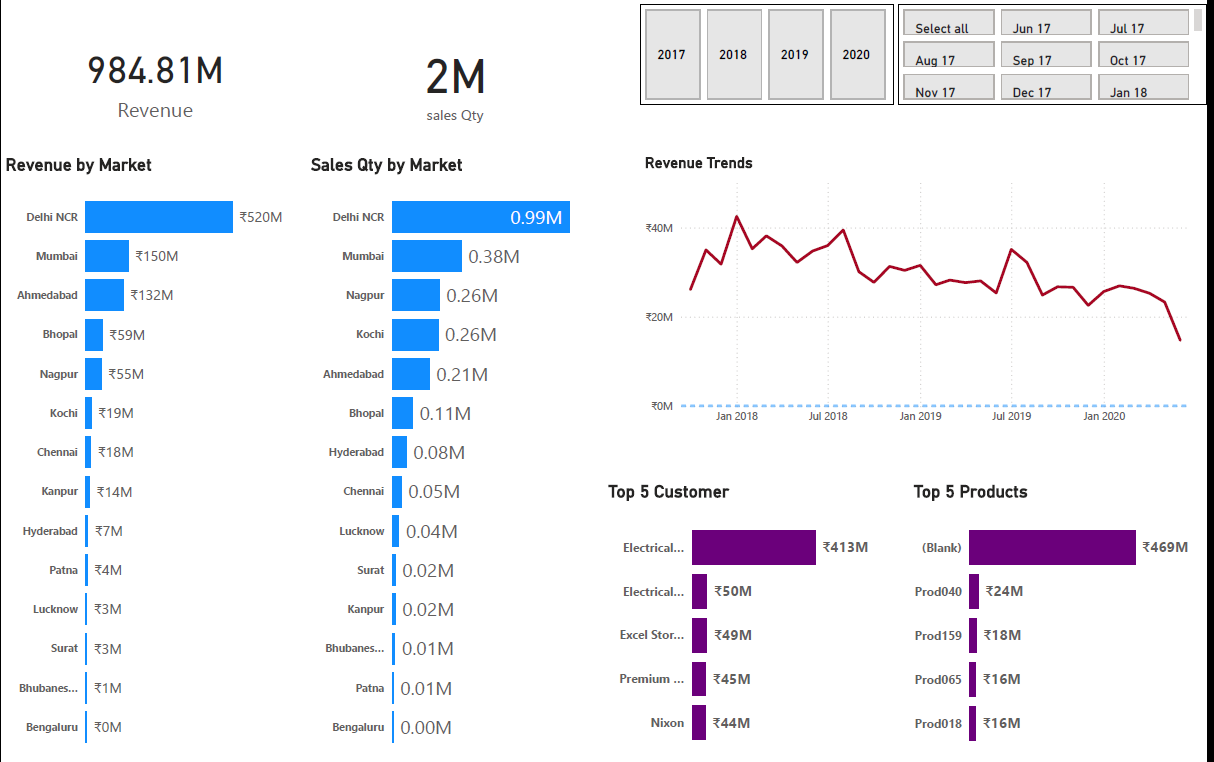

The dashboard page shown, as its layout file describes it:
{"tool":"powerbi","page":{"name":"Performance Insights","canvas":[1350,850],"ordinal":3},"visuals":[{"type":"card","fields":{"Values":["Sum(sales transactions.sales_amount)"]},"box":[0,0,192.2,168.8],"z":0},{"type":"card","fields":{"Values":["BaseMeasures.sales Qty"]},"box":[192.2,0,184.4,168.8],"z":1000},{"type":"advancedSlicerVisual","fields":{"Values":["sales date.year"]},"box":[826.8,0,284.4,46.4],"z":4000},{"type":"advancedSlicerVisual","fields":{"Values":["sales date.cy_date"]},"box":[778.1,46.9,532.8,143.8],"z":5000},{"type":"tableEx","title":"Top 5 Customer","fields":{"Values":["sales customers.custmer_name","BaseMeasures.Revenue","BaseMeasures.Revenue Contribution %","BaseMeasures.Profit Margin Contribution %","BaseMeasures.Profit Margin %"]},"box":[707.8,516.2,641.4,332.3],"z":6000},{"type":"lineClusteredColumnComboChart","title":"Revenue Trends","fields":{"Category":["sales date.cy_date.Variation.Date Hierarchy.Year","sales date.cy_date.Variation.Date Hierarchy.Quarter","sales date.cy_date.Variation.Date Hierarchy.Month","sales date.cy_date.Variation.Date Hierarchy.Day"],"Y":["BaseMeasures.Revenue LY","BaseMeasures.Revenue"],"Y2":["BaseMeasures.Profit Margin %"]},"box":[707.8,205.6,602.7,285.9],"z":7000},{"type":"card","fields":{"Values":["BaseMeasures.Total Profit Margin"]},"box":[376.6,0,184.4,168.8],"z":8000},{"type":"barChart","title":"Revenue Contribution % by Market","fields":{"Y":["BaseMeasures.Profit Margin %"],"Category":["sales markets.zone","sales markets.markets_name","sales customers.custmer_name"]},"box":[0,188.6,621.3,661.5],"z":9000},{"type":"slicer","fields":{"Values":["Profit Target.Profit Target"]},"box":[560.9,17.2,185.9,132.8],"z":9001},{"type":"actionButton","box":[0,0,100,40],"z":9002}]}

Visuals, with their boxes in screenshot pixels (x1, y1, x2, y2), scaled from the page's 1350x850 canvas onto the 1214x762 screenshot:
card - Sum(sales transactions.sales_amount): (0, 0, 173, 151)
card - BaseMeasures.sales Qty: (173, 0, 339, 151)
advancedSlicerVisual - sales date.year: (744, 0, 999, 42)
advancedSlicerVisual - sales date.cy_date: (700, 42, 1179, 171)
"Top 5 Customer" tableEx: (636, 463, 1213, 761)
"Revenue Trends" lineClusteredColumnComboChart: (636, 184, 1178, 441)
card - BaseMeasures.Total Profit Margin: (339, 0, 504, 151)
"Revenue Contribution % by Market" barChart: (0, 169, 559, 761)
slicer - Profit Target.Profit Target: (504, 15, 672, 134)
actionButton: (0, 0, 90, 36)
